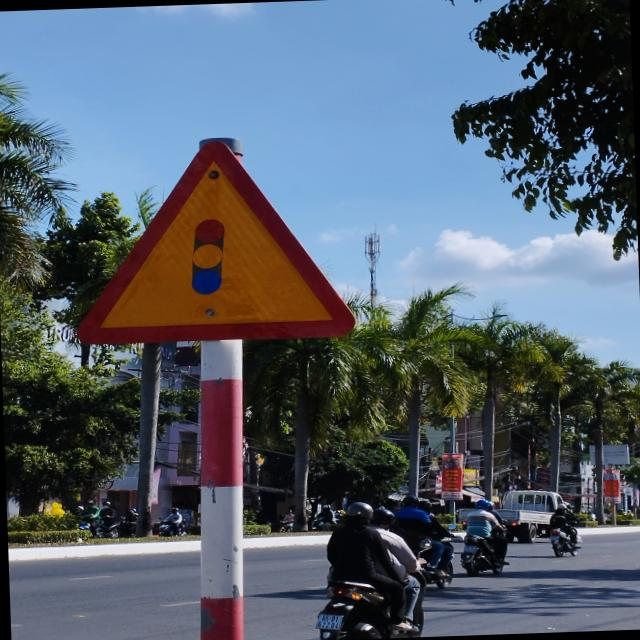Duong_Co_Go_Giam_Toc: (70, 132, 360, 345)
